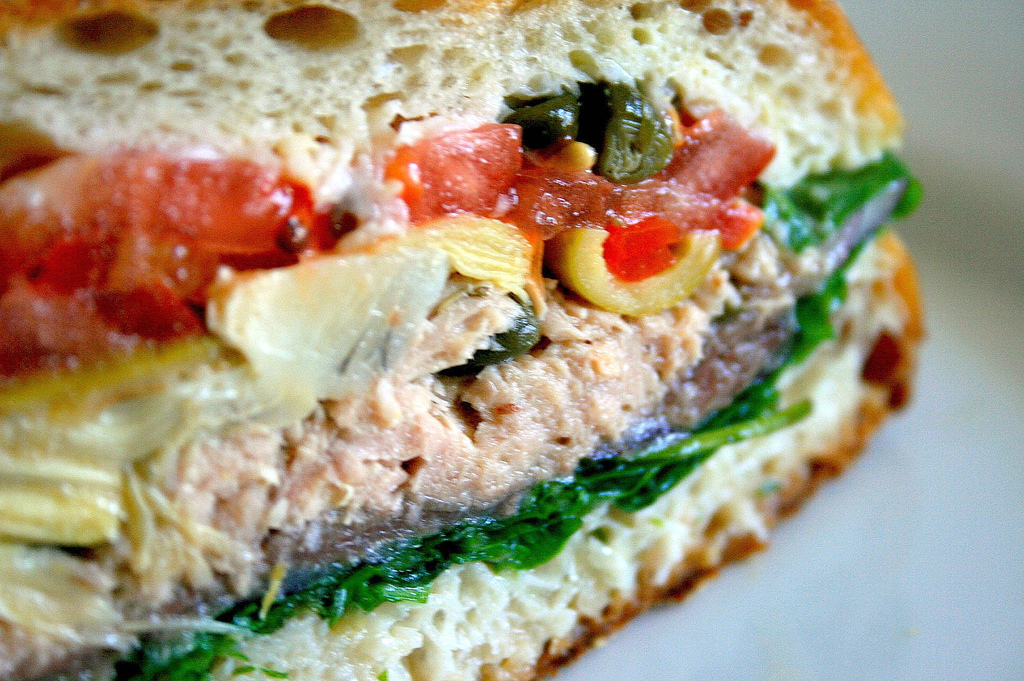slice of bread: (63, 324, 988, 681), (17, 1, 919, 182)
